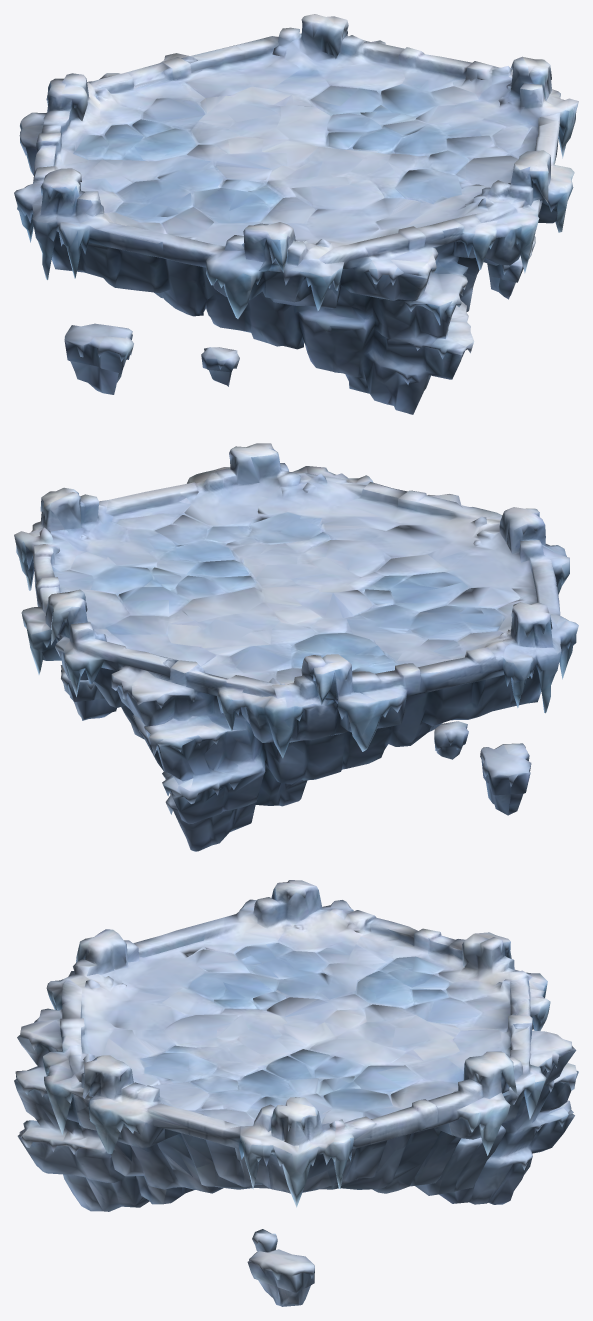
Rendered from R2_Island_Arena.fbx.
3 views of the same model, one above another, from view 1: azimuth 30°, elevation 25°; view 2: azimuth 150°, elevation 25°; view 3: azimuth 270°, elevation 25° (orthographic). The views are drawn at different scales.
Visible parts, largest first — view 1: R2_Island_Arena; view 2: R2_Island_Arena; view 3: R2_Island_Arena.
Part boxes in pixels (<box>): R2_Island_Arena: <box>14,14,578,414</box>; R2_Island_Arena: <box>14,443,578,851</box>; R2_Island_Arena: <box>14,880,578,1306</box>.
Bounding box in the file's own units: 1350 × 550 × 1300.
Materials: 1 (1 with a texture image).
